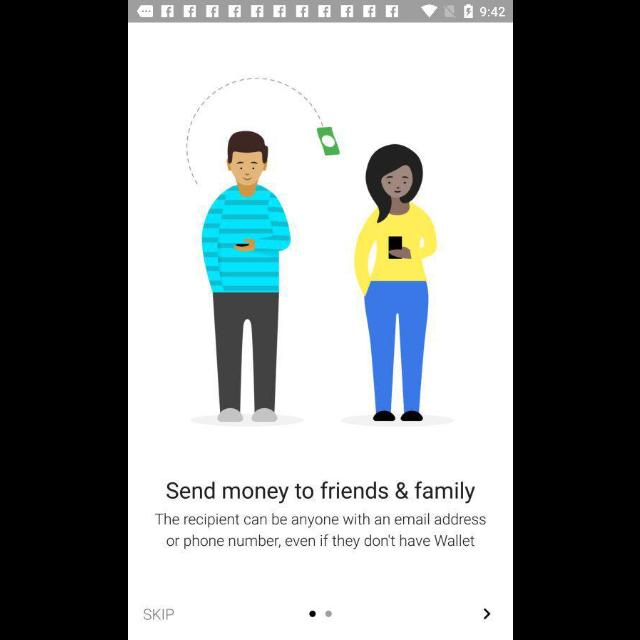icon: (483, 607, 491, 619)
image: (185, 78, 455, 428)
pageindicator: (308, 610, 332, 618)
text: (154, 512, 486, 550), (165, 480, 475, 504), (142, 608, 174, 622)
uppertaskbar: (128, 1, 512, 23)
